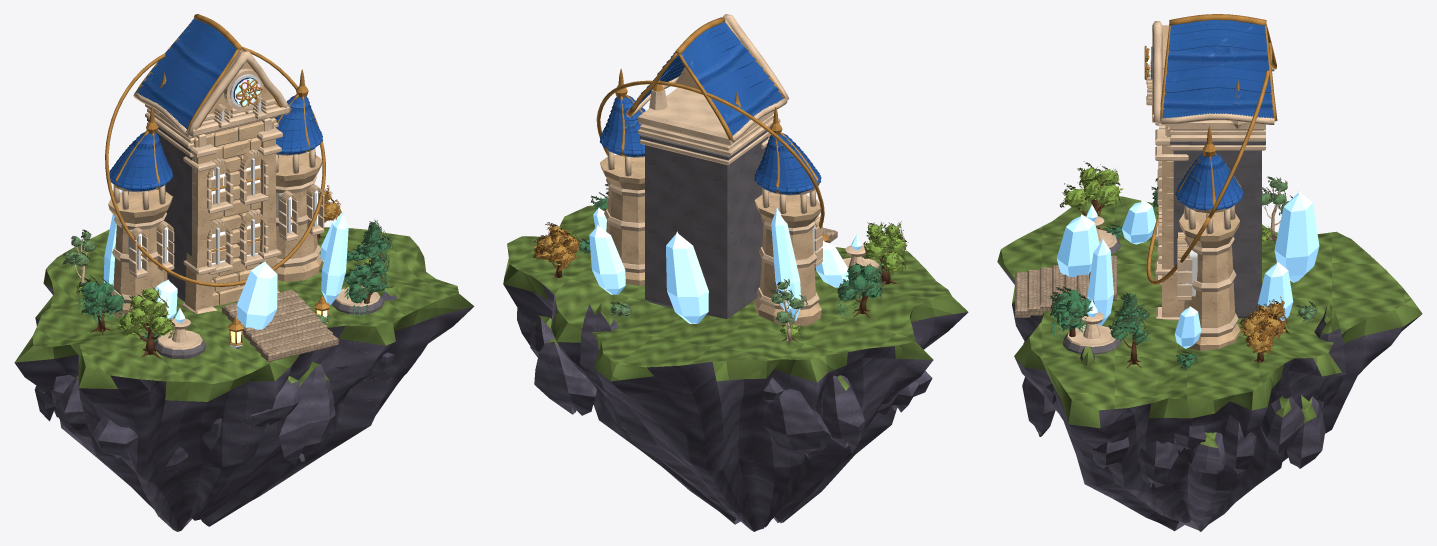
The model's file is island-4.glb.
3 views of the same model, side by side, from view 1: azimuth 30°, elevation 25°; view 2: azimuth 150°, elevation 25°; view 3: azimuth 270°, elevation 25° (orthographic). The views are drawn at different scales.
Parts seen in each view (by area): view 1: Stratified cliffs and meadow / cliff, Stratified cliffs and meadow / top, Architecture / stone, Architecture / trim, Architecture / roof, Architecture / gold, Architecture / gem, Canopy oak / leaves, Architecture / joint, Canopy oak / sprays, Architecture / paving, Architecture / iron (+1 smaller); view 2: Stratified cliffs and meadow / cliff, Stratified cliffs and meadow / top, Architecture / joint, Architecture / trim, Architecture / roof, Architecture / stone, Architecture / gem, Canopy oak / leaves, Architecture / gold, Canopy oak / sprays, Canopy oak / wood; view 3: Stratified cliffs and meadow / top, Stratified cliffs and meadow / cliff, Architecture / roof, Architecture / trim, Architecture / gem, Architecture / stone, Architecture / joint, Canopy oak / leaves, Canopy oak / sprays, Architecture / gold, Architecture / paving, Canopy oak / wood.
Part boxes in pixels (x1,y1,x2,y2): Stratified cliffs and meadow / cliff: [14, 284, 473, 531]; Stratified cliffs and meadow / top: [14, 227, 474, 401]; Architecture / stone: [108, 50, 323, 317]; Architecture / trim: [66, 50, 380, 349]; Architecture / roof: [109, 18, 322, 191]; Architecture / gold: [105, 14, 329, 345]; Architecture / gem: [103, 90, 356, 329]; Canopy oak / leaves: [65, 191, 391, 342]; Architecture / joint: [147, 118, 383, 359]; Canopy oak / sprays: [62, 185, 393, 342]; Architecture / paving: [222, 289, 338, 361]; Architecture / iron: [136, 101, 327, 349]; Stratified cliffs and meadow / cliff: [503, 283, 967, 531]; Stratified cliffs and meadow / top: [503, 205, 968, 390]; Architecture / joint: [640, 130, 881, 318]; Architecture / trim: [604, 14, 879, 340]; Architecture / roof: [600, 22, 821, 194]; Architecture / stone: [600, 19, 821, 326]; Architecture / gem: [589, 207, 861, 323]; Canopy oak / leaves: [534, 194, 905, 336]; Architecture / gold: [596, 17, 828, 242]; Canopy oak / sprays: [533, 184, 908, 339]; Canopy oak / wood: [536, 192, 904, 344]; Stratified cliffs and meadow / top: [997, 196, 1422, 448]; Stratified cliffs and meadow / cliff: [998, 263, 1420, 531]; Architecture / roof: [1162, 20, 1273, 210]; Architecture / trim: [1067, 21, 1280, 346]; Architecture / gem: [1056, 59, 1319, 348]; Architecture / stone: [1147, 25, 1240, 350]; Architecture / joint: [1063, 141, 1265, 354]; Canopy oak / leaves: [1051, 167, 1315, 367]; Canopy oak / sprays: [1049, 161, 1317, 369]; Architecture / gold: [1067, 14, 1277, 292]; Architecture / paving: [1015, 255, 1116, 317]; Canopy oak / wood: [1053, 169, 1284, 368].
Size of the model in its own units: 6.27 by 7.04 by 5.1.
21 materials, 12 textured.
